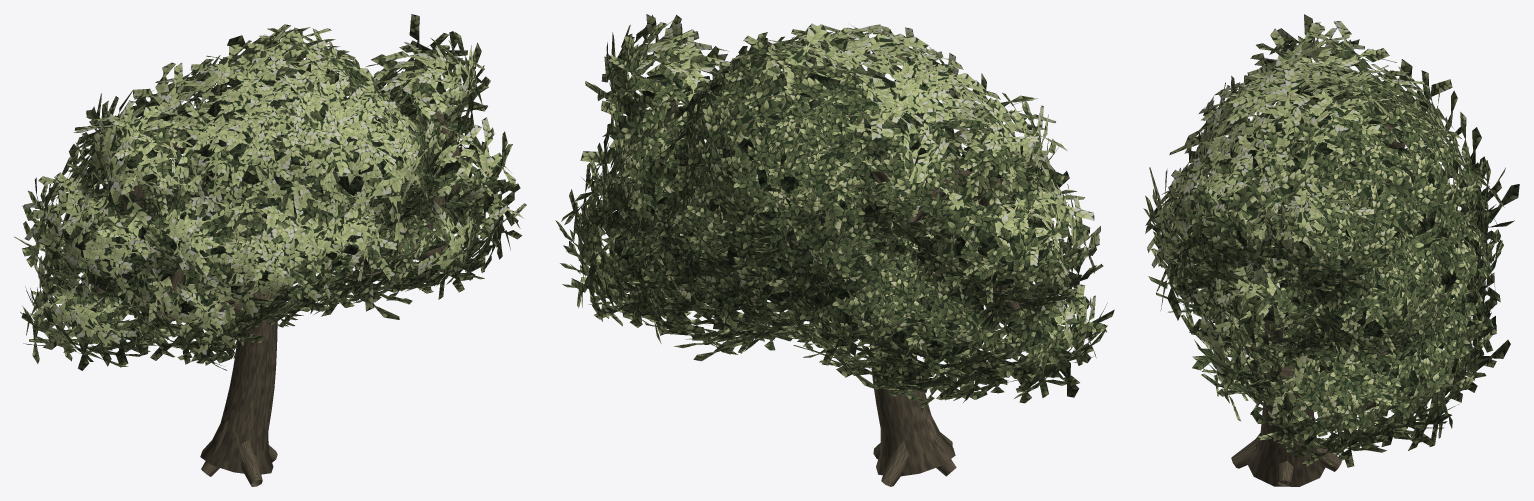
The model's file is tree_big_high.glb.
The picture shows the model from 3 angles, left to right: view 1: azimuth 30°, elevation 25°; view 2: azimuth 150°, elevation 25°; view 3: azimuth 270°, elevation 25°; orthographic projection. The views are drawn at different scales.
Visible parts, largest first — view 1: tree_big; view 2: tree_big; view 3: tree_big.
Boxes of the visible parts, <box> form: tree_big: <box>14,14,526,486</box>; tree_big: <box>555,14,1114,486</box>; tree_big: <box>1143,14,1519,486</box>.
Size of the model in its own units: 3.65 by 2.87 by 2.26.
1 material, 1 textured.
